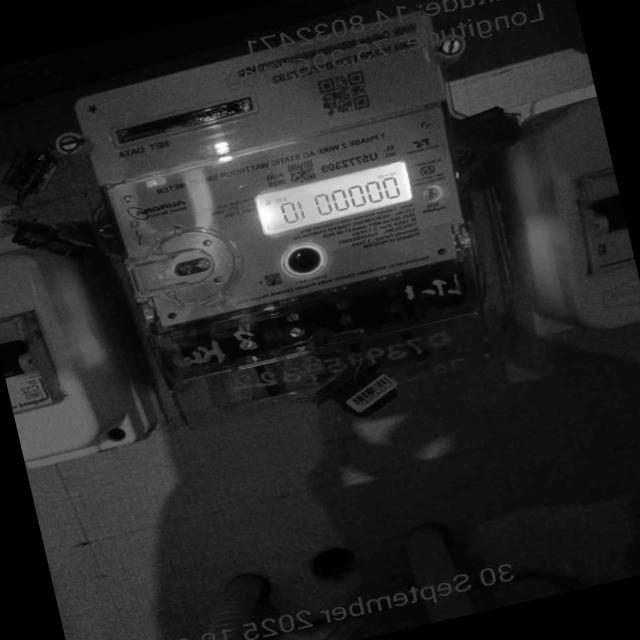meter: (92, 6, 485, 331)
